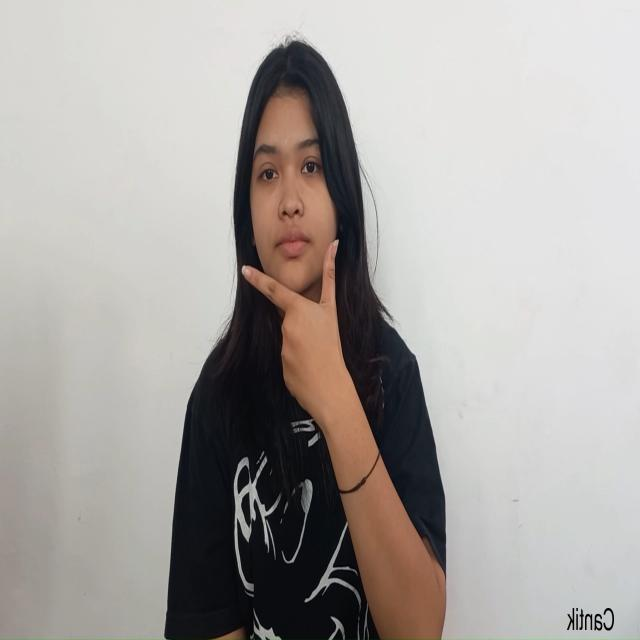Cantik -BISINDO-: (241, 237, 355, 439)
